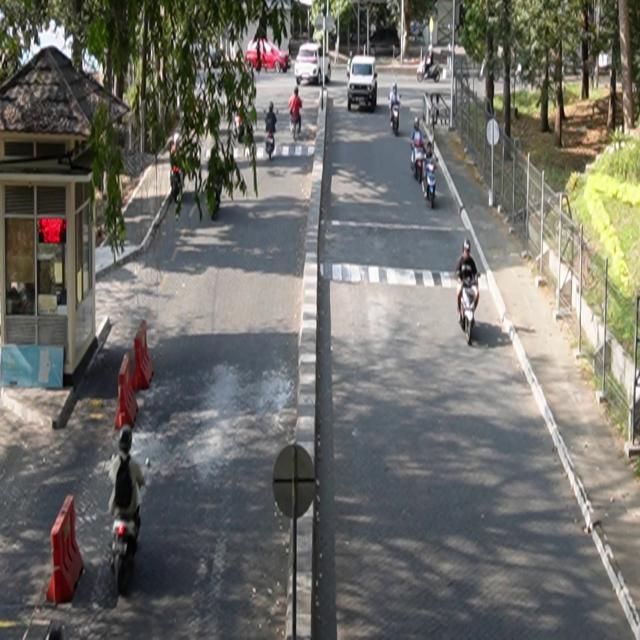car: (246, 39, 292, 75)
